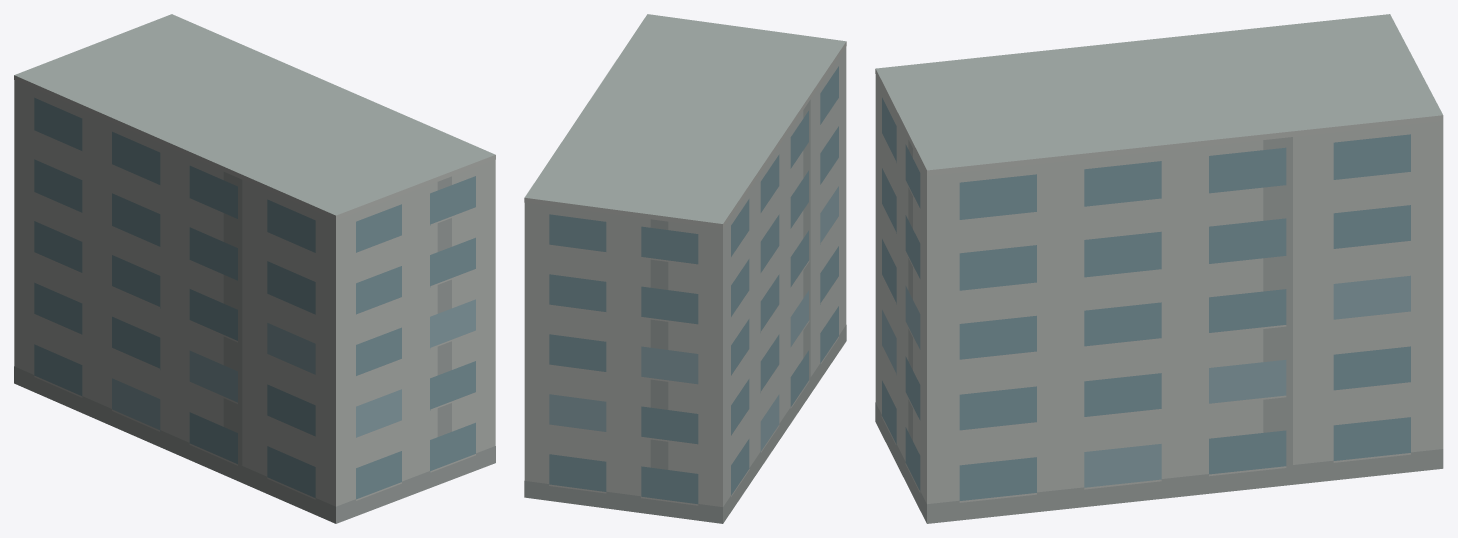
The model's file is survey-upis-32804699.glb.
3 renders of one model, left to right at view 1: azimuth 30°, elevation 25°; view 2: azimuth 150°, elevation 25°; view 3: azimuth 270°, elevation 25°, orthographic. The views are drawn at different scales.
Parts seen in each view (by area): view 1: survey-upis-32804699.tmp; view 2: survey-upis-32804699.tmp; view 3: survey-upis-32804699.tmp.
Boxes of the visible parts, <box> form: survey-upis-32804699.tmp: <box>14,14,495,523</box>; survey-upis-32804699.tmp: <box>524,14,846,523</box>; survey-upis-32804699.tmp: <box>875,14,1443,523</box>.
Bounding box in the file's own units: 14.48 × 15.25 × 22.21.
